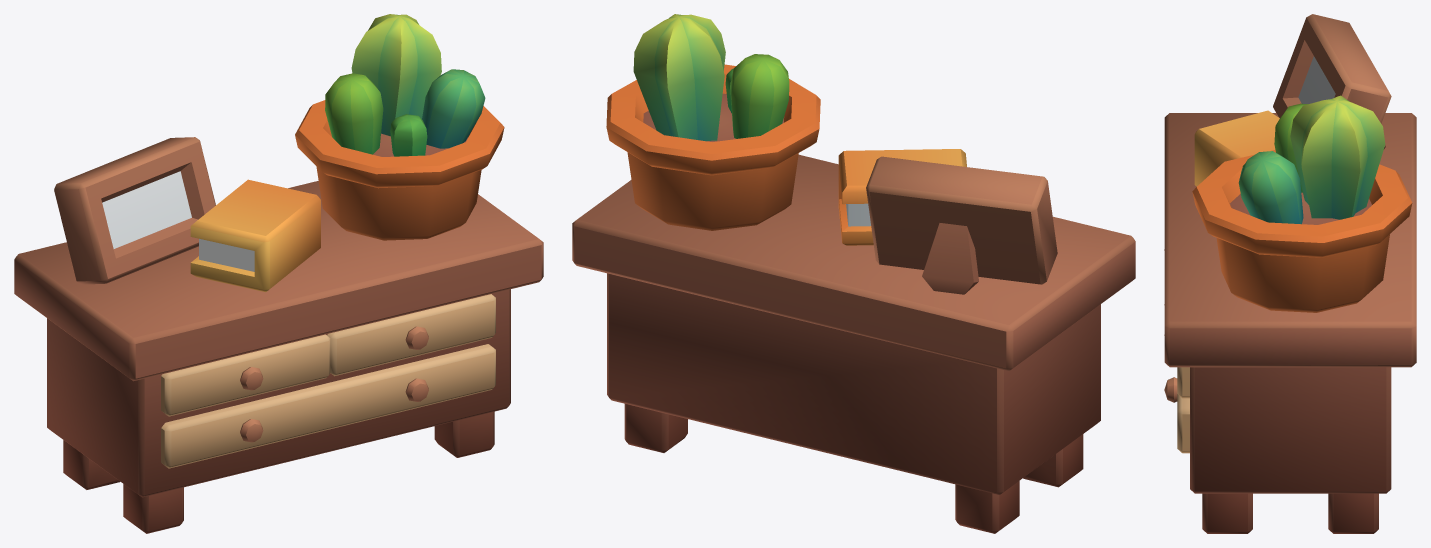
Rendered from cabinet_medium_decorated.glb.
3 views of the same model, side by side, from view 1: azimuth 30°, elevation 25°; view 2: azimuth 150°, elevation 25°; view 3: azimuth 270°, elevation 25° (orthographic). The views are drawn at different scales.
Parts seen in each view (by area): view 1: cabinet_medium_decorated; view 2: cabinet_medium_decorated; view 3: cabinet_medium_decorated.
Boxes of the visible parts, x1,y1,x2,y2 form: cabinet_medium_decorated: (14,14,543,533); cabinet_medium_decorated: (572,14,1135,533); cabinet_medium_decorated: (1164,14,1416,533).
Bounding box in the file's own units: 2.04 × 1.83 × 1.
Materials: 1 (1 with a texture image).
